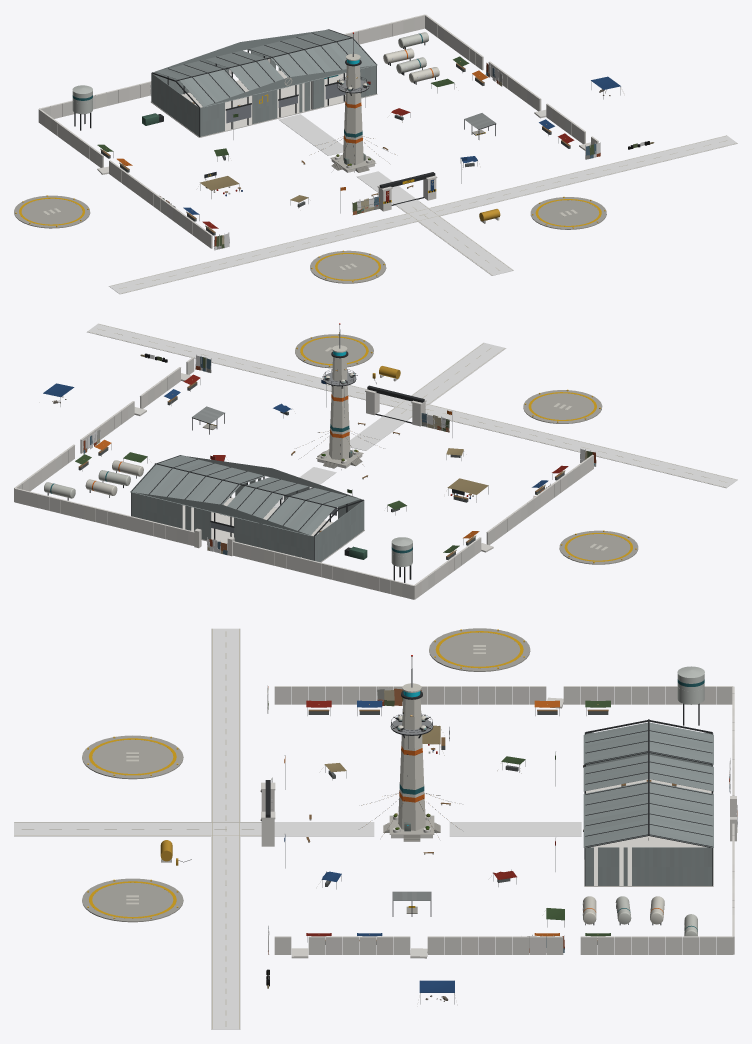
File: exchange.glb
The picture shows the model from 3 angles, top to bottom: view 1: azimuth 30°, elevation 25°; view 2: azimuth 150°, elevation 25°; view 3: azimuth 270°, elevation 25°; orthographic projection. The views are drawn at different scales.
Parts seen in each view (by area): view 1: C0_-2_lod0, C0_1_lod0, C0_0_lod0, C-1_0_lod0, C0_-1_lod0, C-1_1_lod0, C1_0_lod0, C-1_-2_lod0, C-3_0_lod0, C1_1_lod0, C-2_1_lod0, C1_-1_lod0 (+3 smaller); view 2: C0_-2_lod0, C0_1_lod0, C-1_1_lod0, C0_-1_lod0, C1_0_lod0, C-1_0_lod0, C-1_-2_lod0, C-2_1_lod0, C-3_0_lod0, C0_0_lod0, C1_1_lod0, C1_-1_lod0 (+3 smaller); view 3: C0_-2_lod0, C0_1_lod0, C0_0_lod0, C0_-1_lod0, C1_0_lod0, C-1_1_lod0, C-2_0_lod0, C-1_0_lod0, C-1_-2_lod0, C-3_0_lod0, C-2_-1_lod0, C1_-1_lod0 (+3 smaller).
Boxes of the visible parts, x1,y1,x2,y2 form: C0_-2_lod0: (109, 135, 737, 294); C0_1_lod0: (151, 28, 393, 137); C0_0_lod0: (233, 38, 467, 190); C-1_0_lod0: (176, 60, 328, 188); C0_-1_lod0: (110, 32, 726, 286); C-1_1_lod0: (95, 51, 260, 125); C1_0_lod0: (399, 38, 620, 107); C-1_-2_lod0: (302, 207, 492, 283); C-3_0_lod0: (14, 195, 90, 228); C1_1_lod0: (369, 14, 457, 63); C-2_1_lod0: (38, 85, 95, 145); C1_-1_lod0: (488, 90, 654, 159); C0_-2_lod0: (87, 323, 737, 488); C0_1_lod0: (72, 456, 364, 562); C-1_1_lod0: (212, 487, 367, 585); C0_-1_lod0: (88, 323, 726, 487); C1_0_lod0: (43, 383, 147, 485); C-1_0_lod0: (251, 444, 468, 545); C-1_-2_lod0: (409, 348, 602, 436); C-2_1_lod0: (356, 537, 448, 599); C-3_0_lod0: (559, 530, 638, 564); C0_0_lod0: (123, 380, 451, 507); C1_1_lod0: (14, 464, 114, 516); C1_-1_lod0: (59, 353, 211, 430); C0_-2_lod0: (14, 628, 261, 1029); C0_1_lod0: (584, 719, 737, 903); C0_0_lod0: (284, 755, 648, 908); C0_-1_lod0: (239, 628, 436, 1029); C1_0_lod0: (419, 896, 648, 1000); C-1_1_lod0: (640, 720, 737, 824); C-2_0_lod0: (441, 656, 648, 734); C-1_0_lod0: (426, 720, 647, 805); C-1_-2_lod0: (14, 735, 261, 822); C-3_0_lod0: (429, 628, 530, 671); C-2_-1_lod0: (267, 656, 444, 715); C1_-1_lod0: (266, 902, 444, 999).
Size of what is drawn, in the model's own units: 224 by 45.7 by 171.
